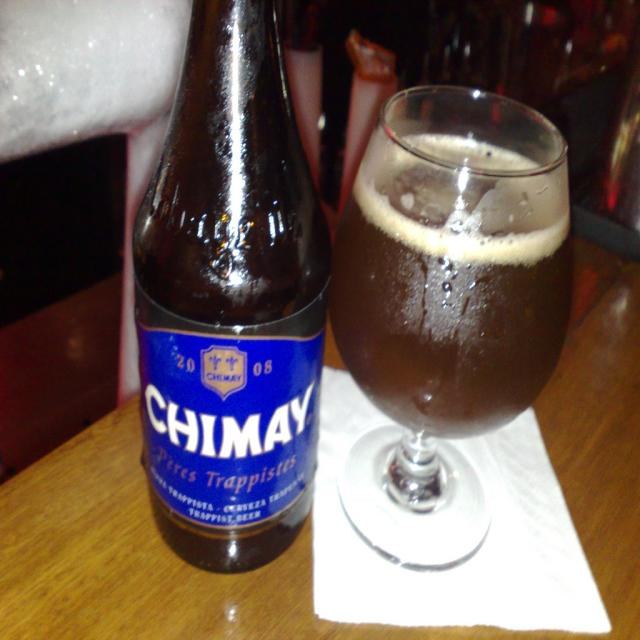chimay: (141, 331, 326, 530)
